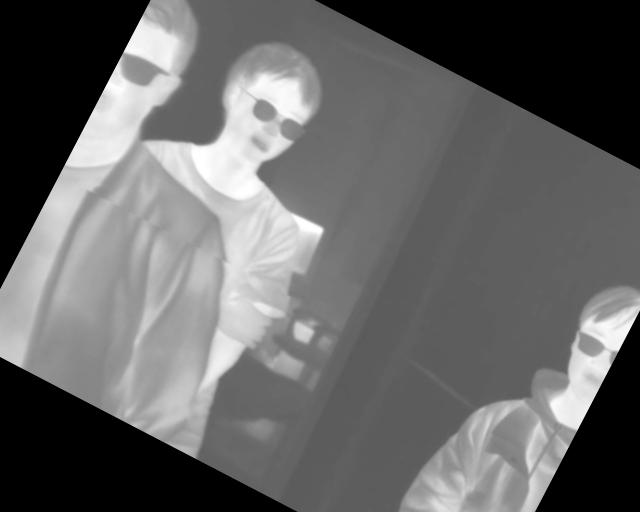face: (198, 22, 342, 176), (549, 270, 640, 399)
